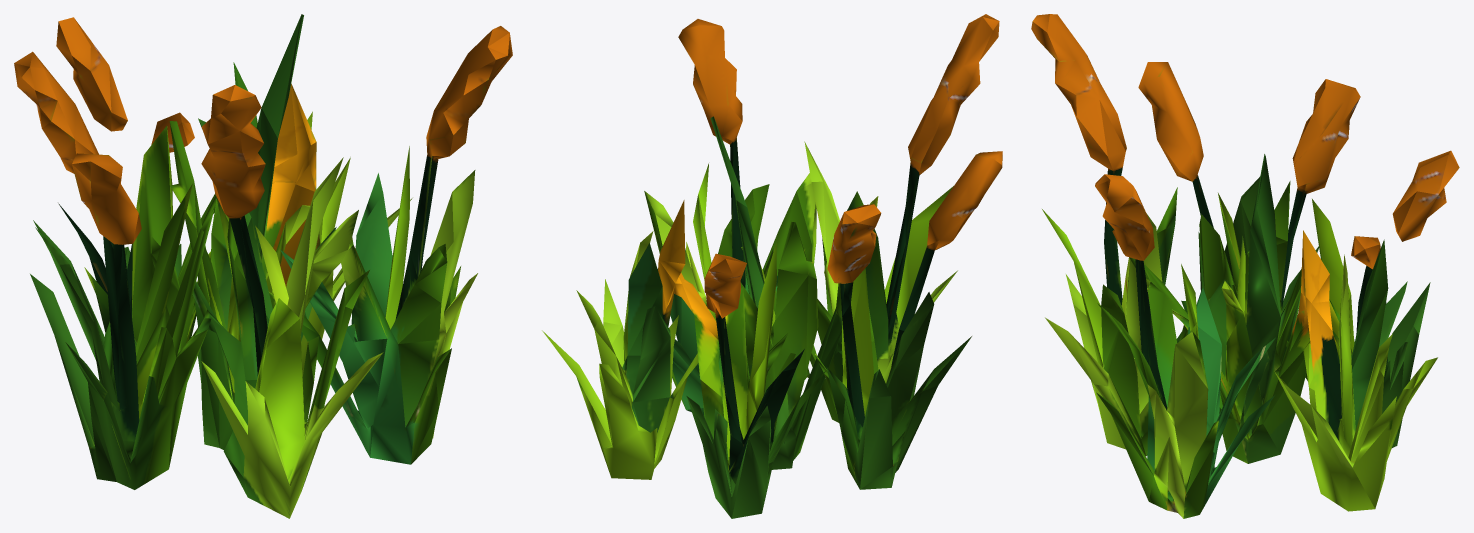
File: tall-grass-tuft.glb
3 views of the same model, side by side, from view 1: azimuth 30°, elevation 25°; view 2: azimuth 150°, elevation 25°; view 3: azimuth 270°, elevation 25° (orthographic). The views are drawn at different scales.
Parts seen in each view (by area): view 1: geometry_0; view 2: geometry_0; view 3: geometry_0.
Part boxes in pixels (<box>): geometry_0: <box>14,14,512,518</box>; geometry_0: <box>542,14,1002,518</box>; geometry_0: <box>1031,14,1459,518</box>.
Size of the model in its own units: 0.9146 by 0.9979 by 0.9822.
1 material, 1 textured.
